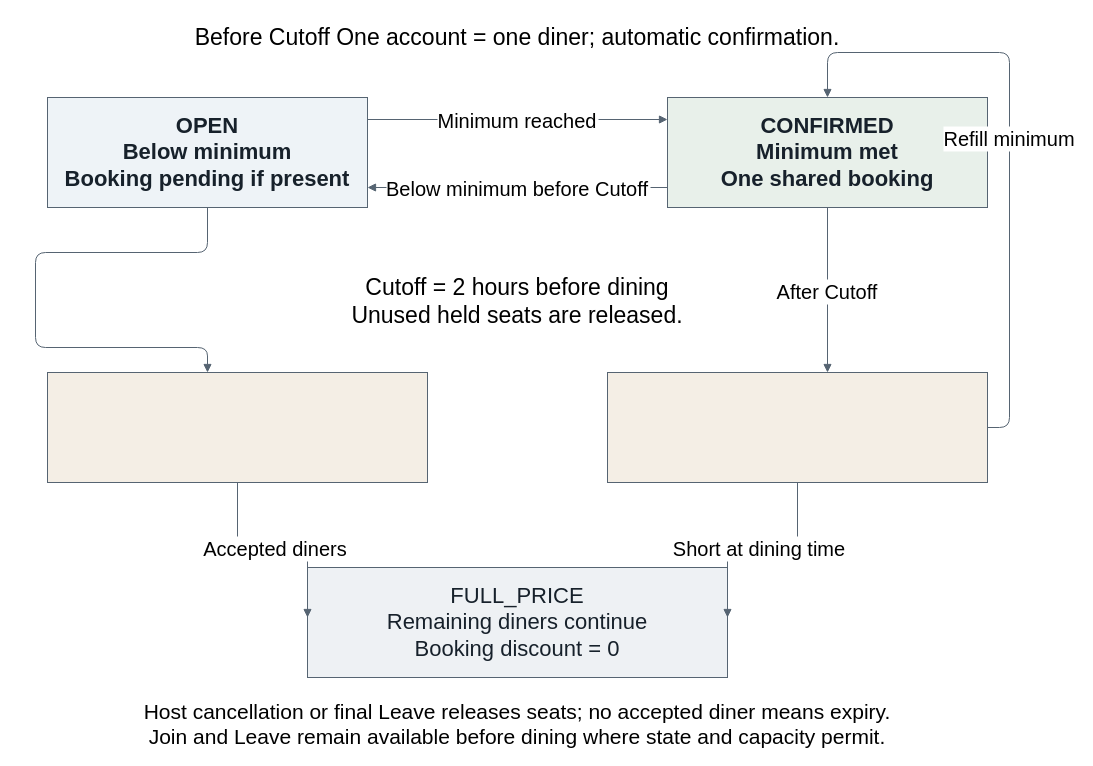
The diagram is 1093 pixels wide and 766 high, and some of its shapes have lost their labels. The shapes that lost their labels are listed below. From the top down, each one's centre as x and y in pixels, then its label:
the point at 237,427: PRICE_DECISION Short at Cutoff Each diner accepts or declines
the point at 797,427: LAST_CALL Late loss below minimum Invite eligible nearby diners
